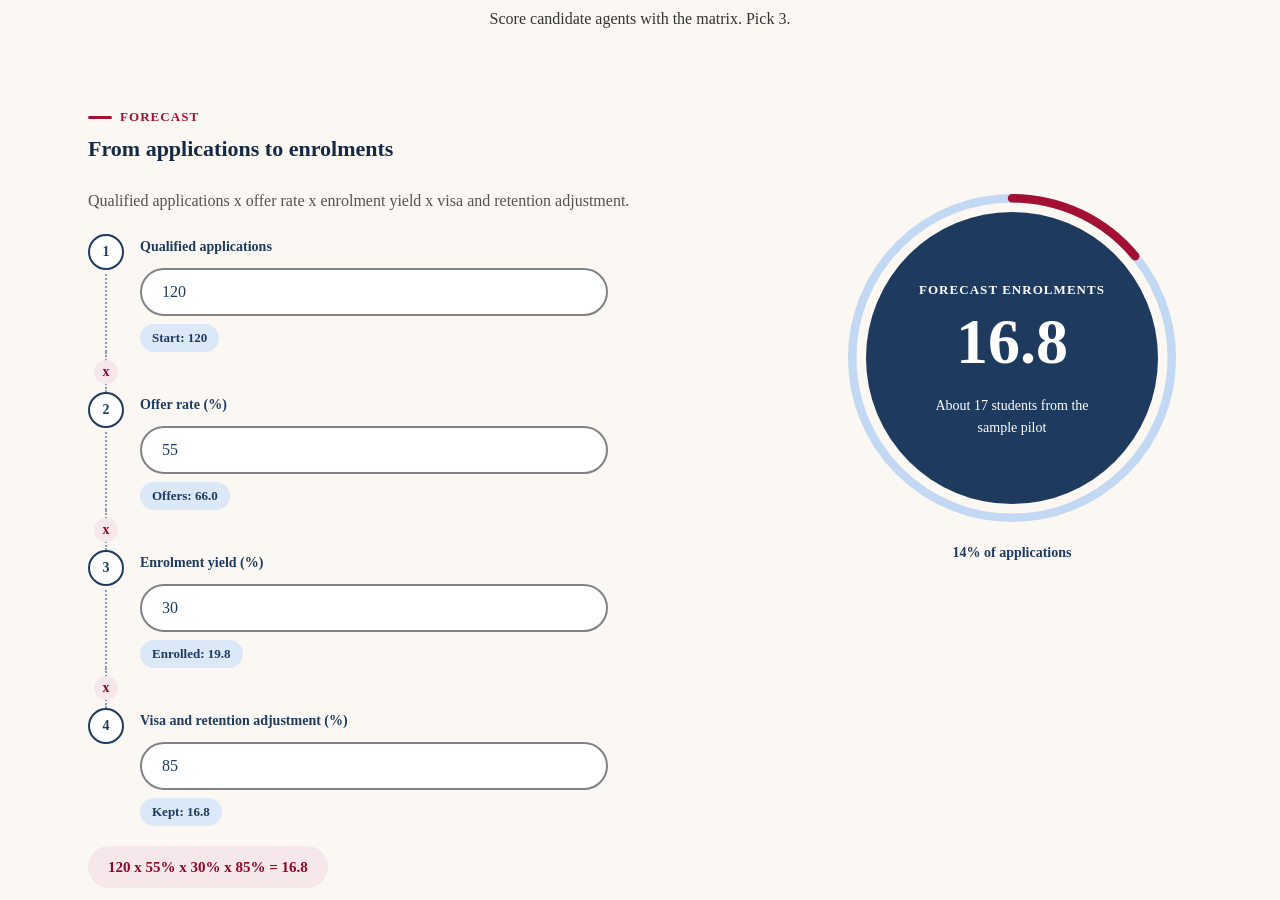
Test case: AgentStrategy › forecast › converts percents to ratios and updates every step when an input changes
(page scrolled)
Replace the text in the number field labelled "Offer rate (%)" with "50" at point(374, 450), box x1=140 y1=426 x2=608 y2=474
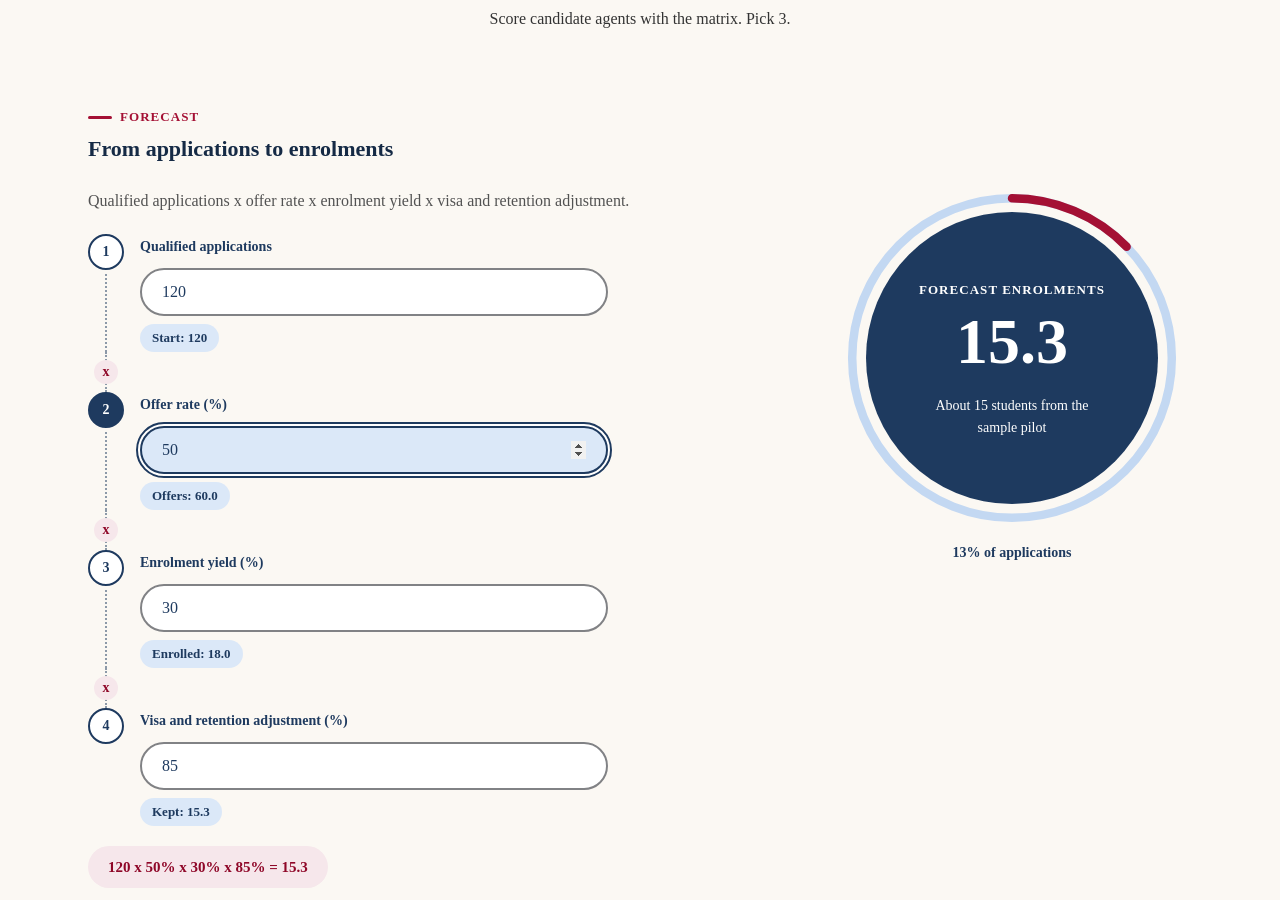
Now the text "Offers: 60.0" is shown, box x1=140 y1=482 x2=230 y2=510
Now the text "Enrolled: 18.0" is shown, box x1=140 y1=640 x2=242 y2=668
Now the text "Kept: 15.3" is shown, box x1=140 y1=798 x2=222 y2=826
